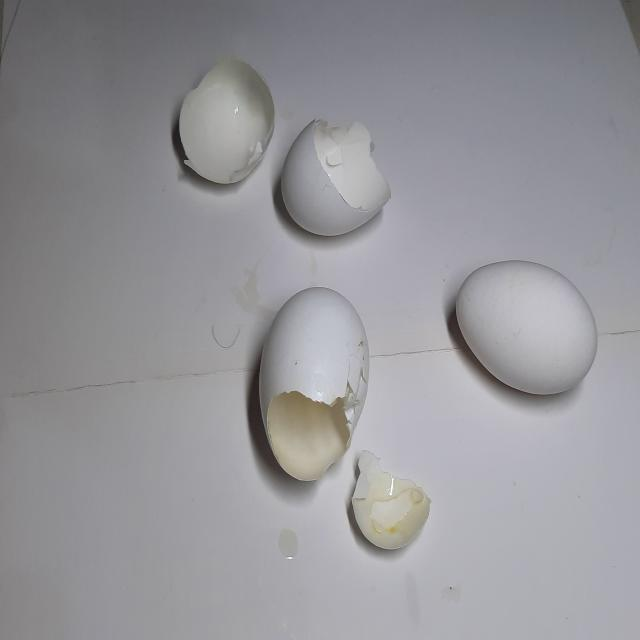egg shell: (449, 253, 606, 403), (255, 281, 366, 484), (276, 114, 395, 240), (175, 51, 279, 192), (343, 451, 431, 556)
